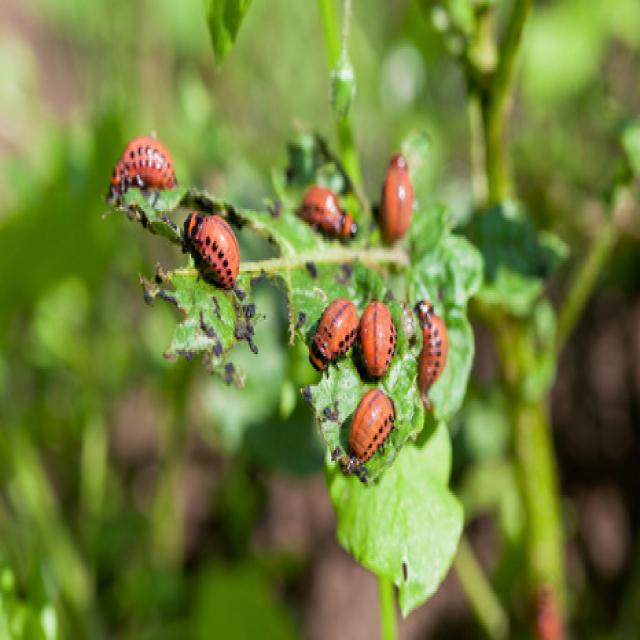ShuCaiHuaBanChong-Larva-: (365, 148, 425, 250), (336, 384, 405, 466), (177, 203, 237, 297), (289, 178, 360, 249), (116, 140, 194, 202), (410, 298, 451, 406), (305, 291, 365, 364), (354, 295, 402, 385)
